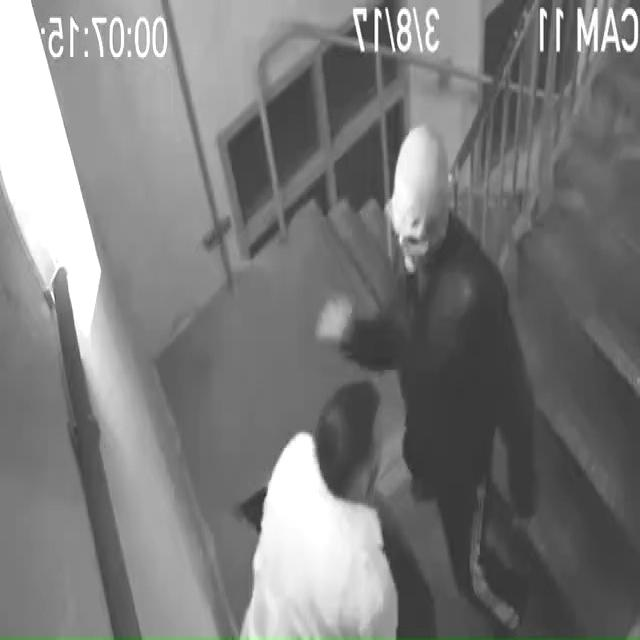fight: (198, 101, 565, 640)
